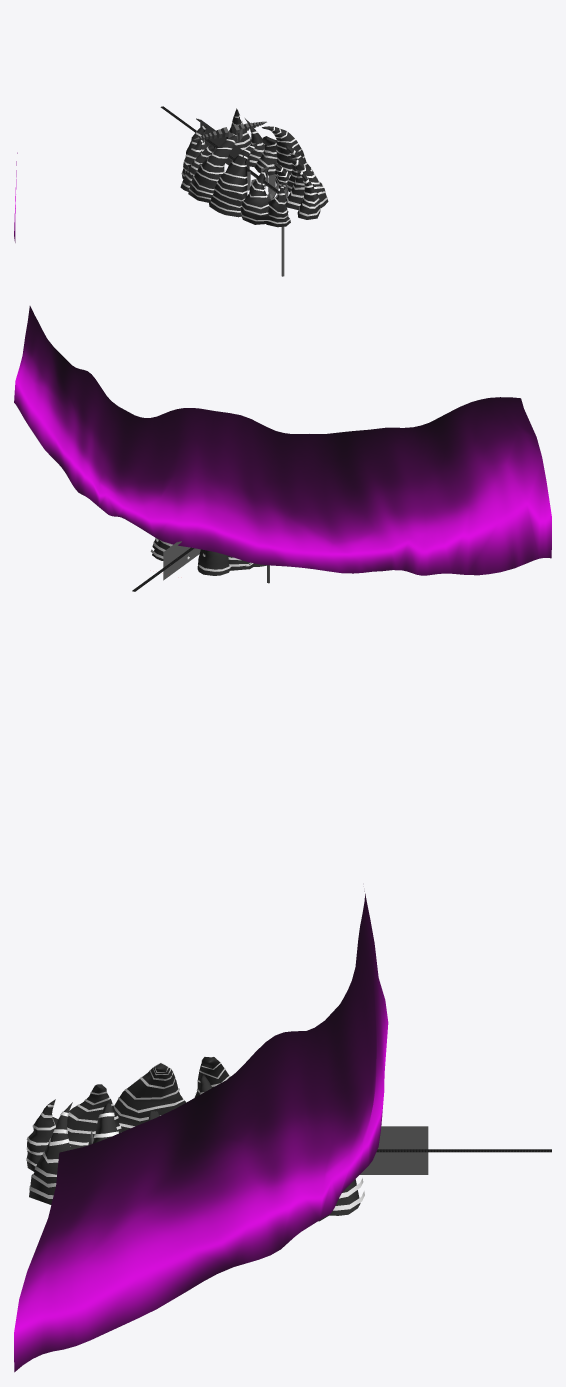
File: rockmixtape.glb
The picture shows the model from 3 angles, top to bottom: view 1: azimuth 30°, elevation 25°; view 2: azimuth 150°, elevation 25°; view 3: azimuth 270°, elevation 25°; orthographic projection. The views are drawn at different scales.
Visible parts, largest first — view 1: MountainMesh, MountainGlow; view 2: AuroraMain, MountainMesh, Tunnel; view 3: AuroraMain, MountainMesh, MountainGlow, Tunnel, StaticBatchMaterial.
Boxes of the visible parts, x1,y1,x2,y2 form: MountainMesh: (180,108,328,227); MountainGlow: (181,114,327,223); AuroraMain: (14,306,551,575); MountainMesh: (152,539,267,575); Tunnel: (163,541,200,580); AuroraMain: (14,891,388,1372); MountainMesh: (27,1057,360,1221); MountainGlow: (26,1058,364,1210); Tunnel: (366,1129,428,1174); StaticBatchMaterial: (360,1126,428,1174).
Size of the model in its own units: 743 by 340 by 358.
16 materials, 7 textured.
